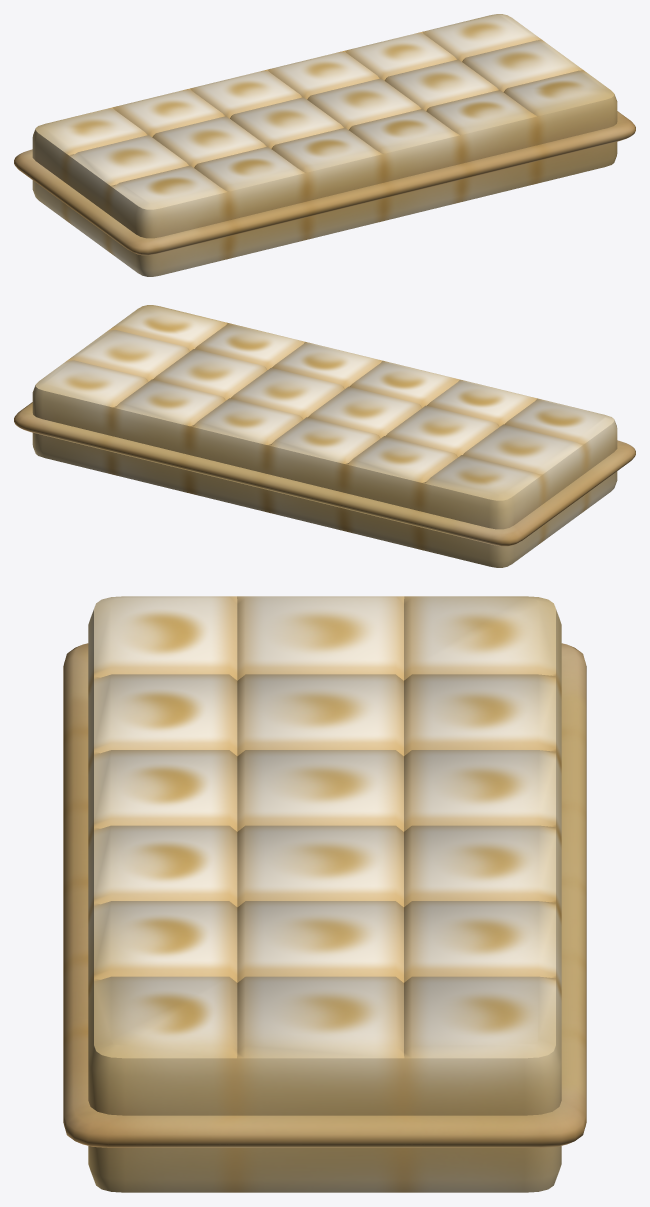
Rendered from siso.fbx.
The picture shows the model from 3 angles, top to bottom: view 1: azimuth 30°, elevation 25°; view 2: azimuth 150°, elevation 25°; view 3: azimuth 270°, elevation 25°; orthographic projection. The views are drawn at different scales.
Parts seen in each view (by area): view 1: Box001; view 2: Box001; view 3: Box001.
Boxes of the visible parts, bbox=[...] form: Box001: bbox=[14, 14, 635, 276]; Box001: bbox=[14, 305, 635, 567]; Box001: bbox=[63, 596, 586, 1192].
Size of the model in its own units: 73.98 by 10.12 by 33.13.
1 material, 1 textured.
